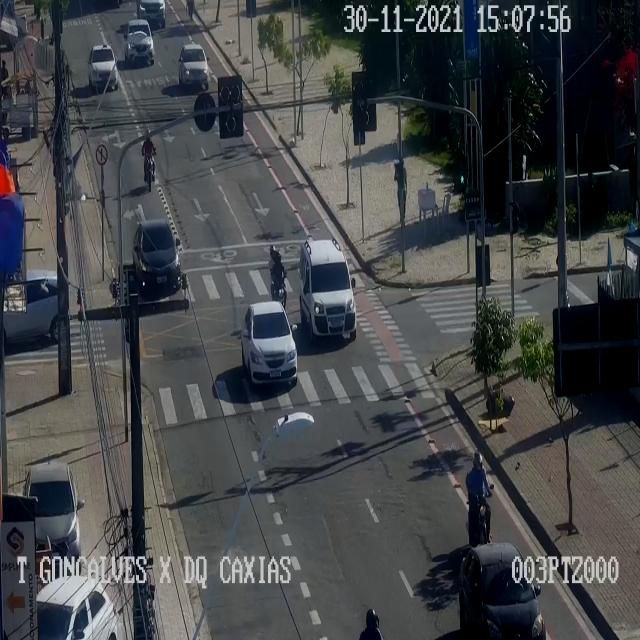Car: (458, 542, 546, 639), (24, 462, 80, 572), (299, 239, 355, 338), (36, 575, 116, 639), (241, 300, 297, 384), (132, 219, 180, 288), (123, 19, 153, 63), (178, 44, 208, 88), (88, 44, 118, 88), (136, 0, 164, 18)
Motorcycle: (466, 452, 490, 554), (268, 245, 286, 318), (141, 128, 155, 190)
